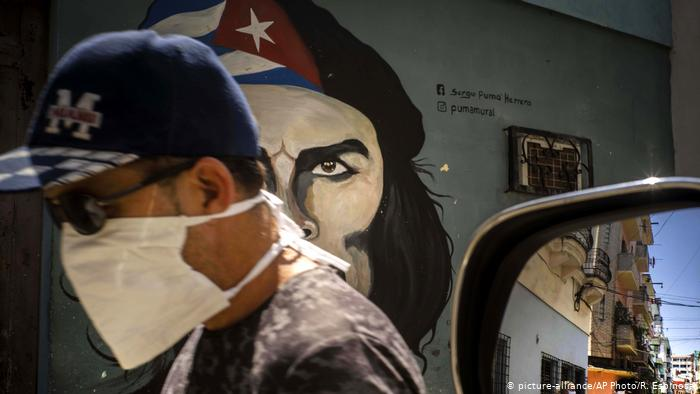with_mask: (35, 117, 282, 341)
